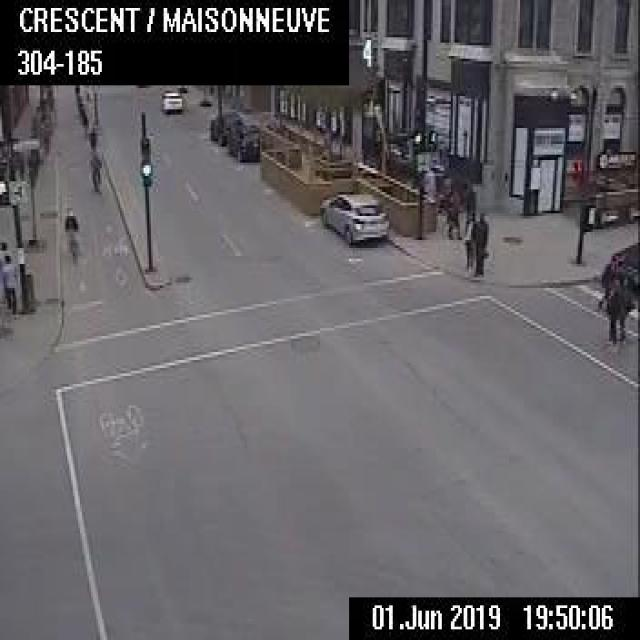cyclist: (63, 204, 79, 260), (88, 148, 100, 191)
pedestrian: (596, 268, 618, 346), (614, 268, 633, 342), (470, 211, 488, 274), (1, 252, 17, 318), (461, 210, 476, 272), (446, 184, 461, 238), (462, 181, 477, 235), (0, 237, 11, 304)
vehicle: (318, 190, 391, 244), (600, 238, 638, 306), (226, 122, 260, 160), (208, 109, 242, 144), (160, 88, 183, 112)
